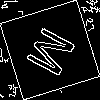M: (25, 25, 85, 83)
